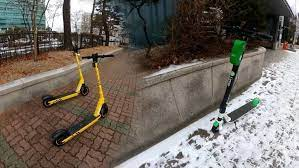kick_handler: (223, 24, 271, 42), (82, 53, 114, 61)
kick_neck: (221, 45, 242, 104), (94, 67, 106, 102), (76, 57, 83, 84)
kick_wheel: (52, 131, 69, 146), (213, 119, 224, 132), (99, 105, 109, 118), (43, 95, 53, 107), (82, 86, 89, 96)
